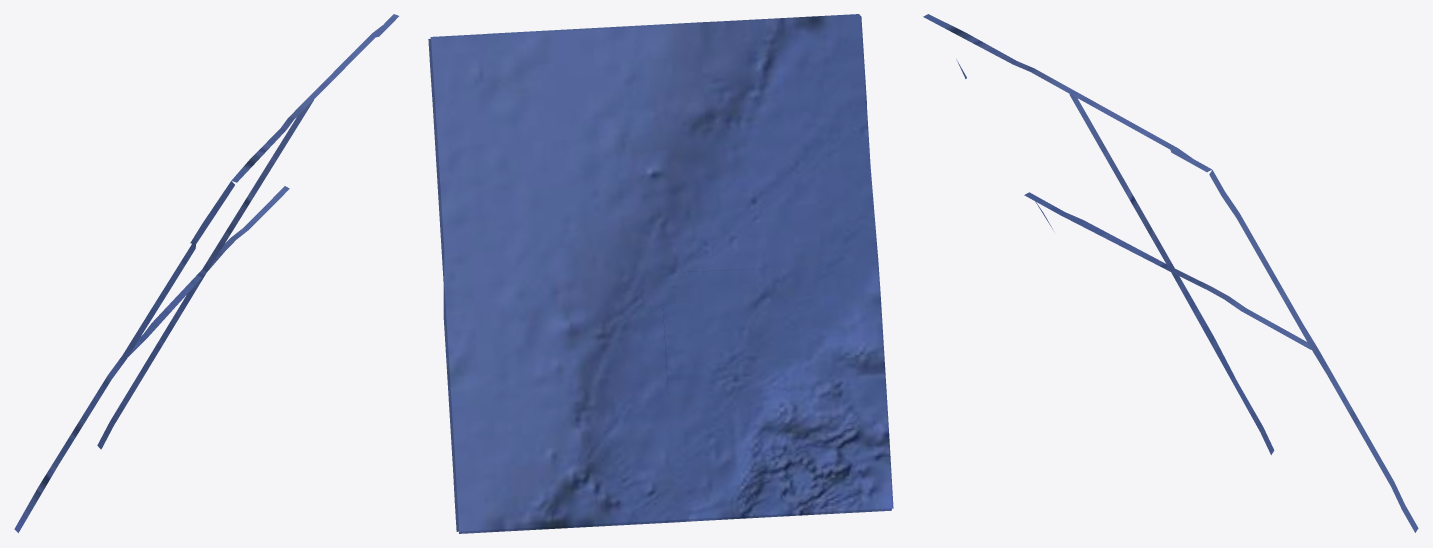
3 views of the same model, side by side, from view 1: azimuth 30°, elevation 25°; view 2: azimuth 150°, elevation 25°; view 3: azimuth 270°, elevation 25° (orthographic). The views are drawn at different scales.
Bounding box in the file's own units: 156433 × 139321 × 145598.
Materials: 1 (1 with a texture image).
